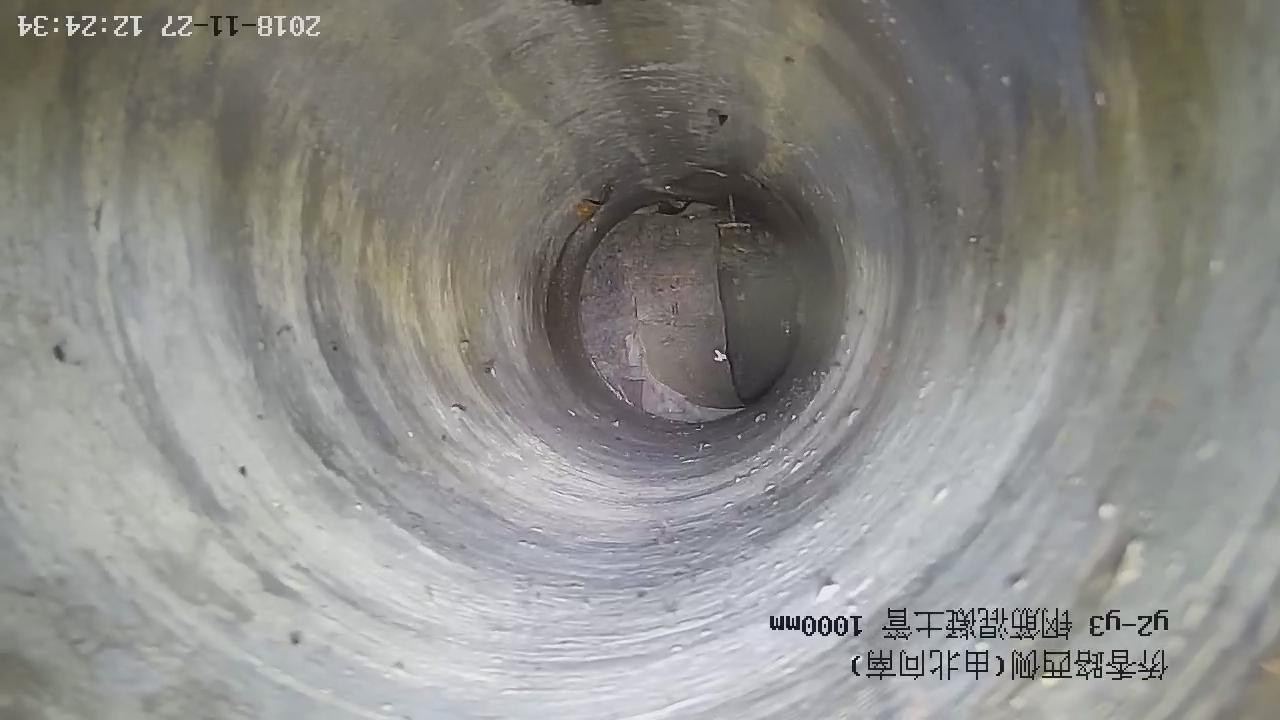CQBG: (582, 206, 743, 422)
